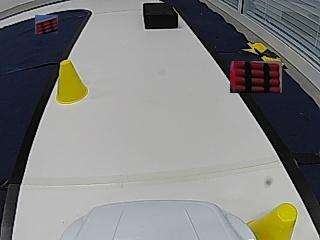block: (142, 2, 178, 28)
cone: (55, 60, 87, 104), (259, 203, 298, 239)
